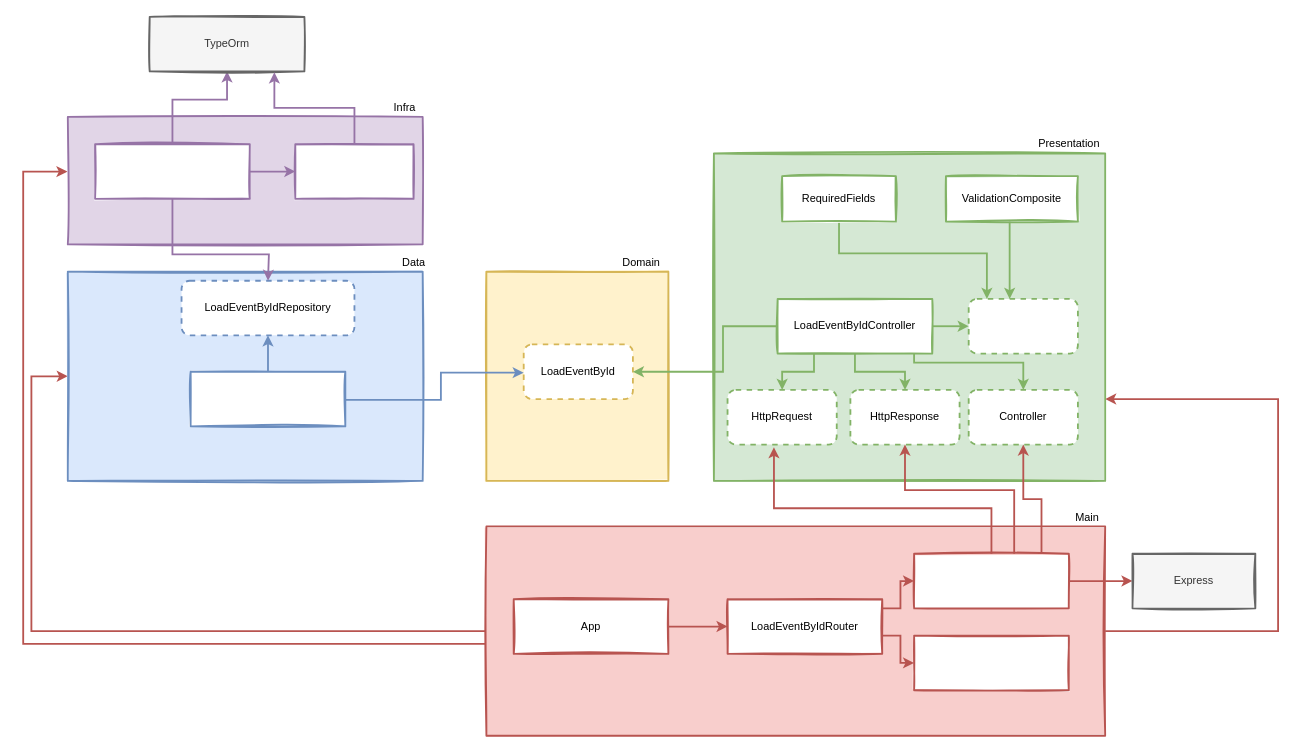
This 1301x752 diagram has some shape labels left out. Each missing label, with the box of its shape:
EventEntity: (294, 143, 414, 199)
EventPgRepository: (94, 143, 250, 199)
ExpressRouteAdapter: (913, 552, 1069, 609)
LoadEventByIdFactory: (913, 634, 1069, 691)
LoadEventByIdService: (189, 370, 346, 427)
Validation: (967, 298, 1078, 354)
